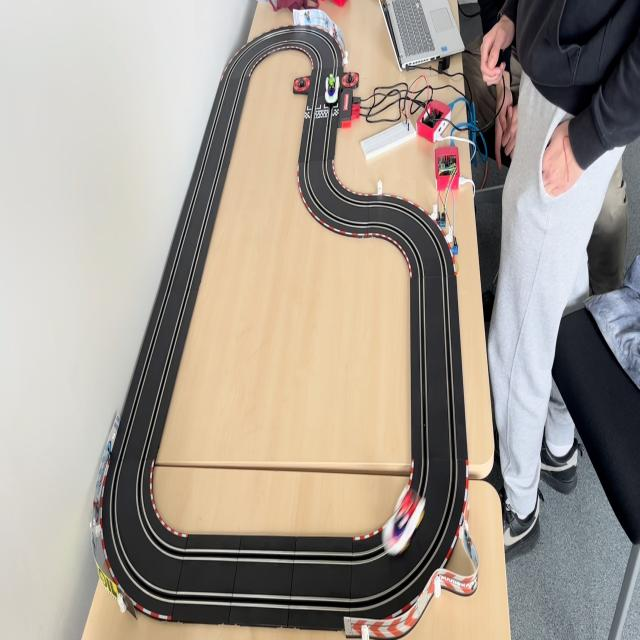mario: (381, 488, 429, 564)
yoshi: (324, 72, 340, 106)
